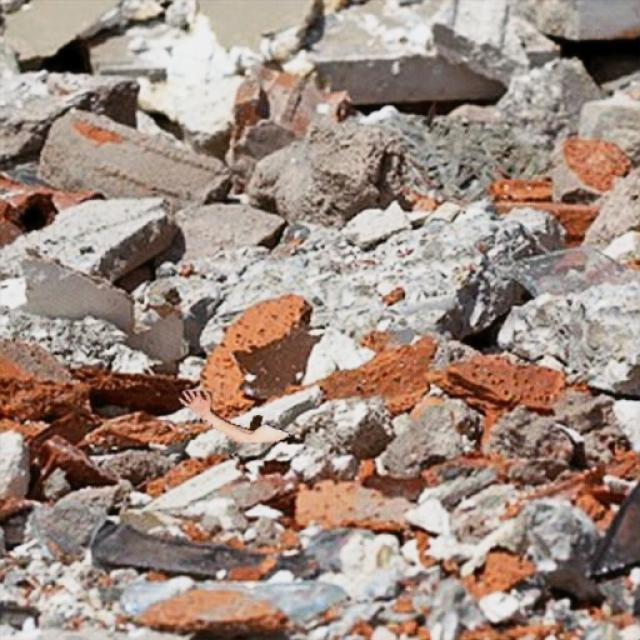Person in Rubble: (179, 391, 289, 441)
